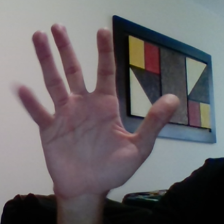left: (3, 18, 189, 202)
